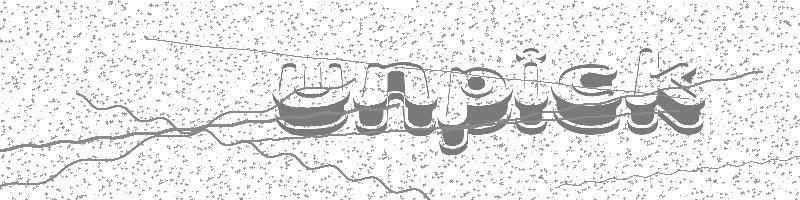c: (552, 64, 621, 135)
i: (513, 48, 549, 135)
k: (627, 48, 705, 135)
n: (354, 63, 438, 136)
p: (439, 68, 514, 156)
u: (273, 63, 349, 136)
